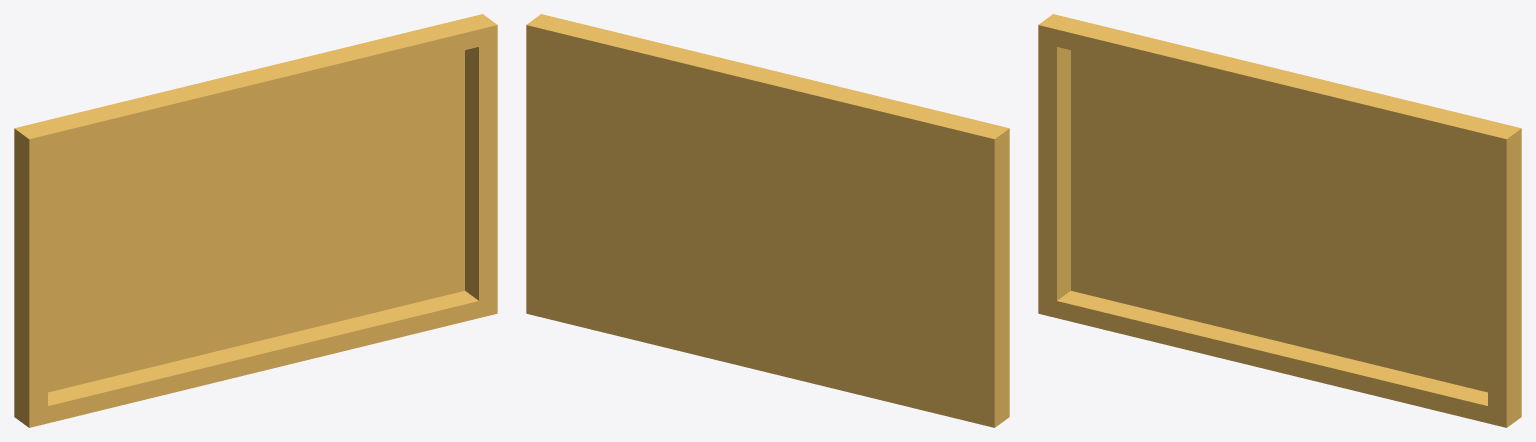
The model's file is frame.fbx.
3 renders of one model, left to right at view 1: azimuth 30°, elevation 25°; view 2: azimuth 150°, elevation 25°; view 3: azimuth 330°, elevation 25°, orthographic.
Parts seen in each view (by area): view 1: Cube; view 2: Cube; view 3: Cube.
Part boxes in pixels (x1,y1,x2,y2): Cube: [14, 14, 497, 427]; Cube: [526, 14, 1009, 427]; Cube: [1038, 14, 1521, 427].
Bounding box in the file's own units: 324 × 191 × 17.96.
